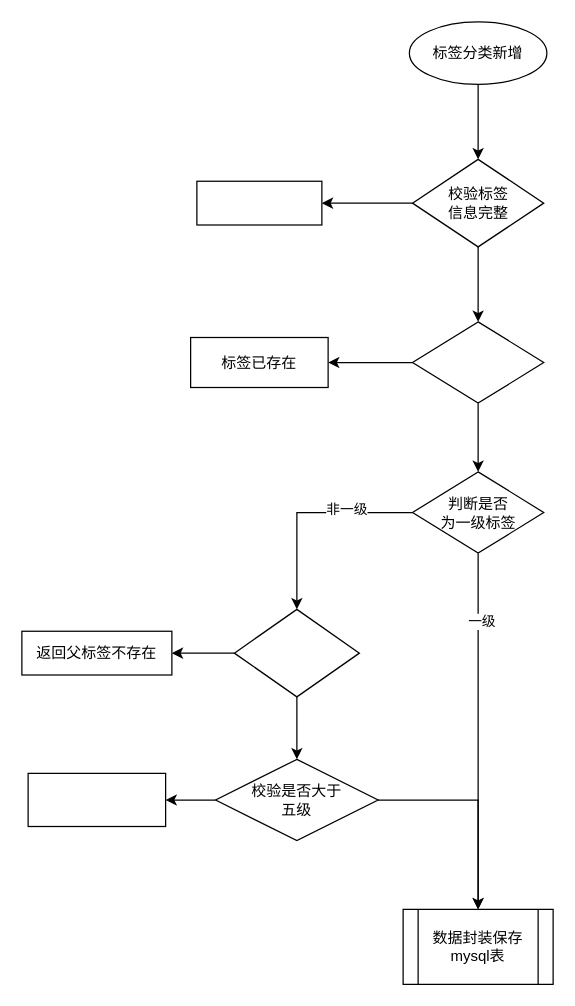
The diagram is 575 pixels wide and 1006 high, and some of its shapes have lost their labels. The shapes that lost their labels are listed below. From the top down, each one's box as (x1, y1, x2, y2) in pixels, then its label:
(196, 180, 322, 225): 返回信息缺失
(411, 321, 544, 403): 校验标签名 是否存在
(233, 608, 359, 697): 校验父标签 是否存在
(27, 772, 166, 826): 返回级数过高
